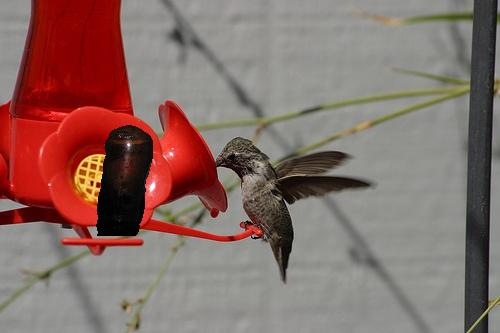tampered: (97, 126, 153, 236)
